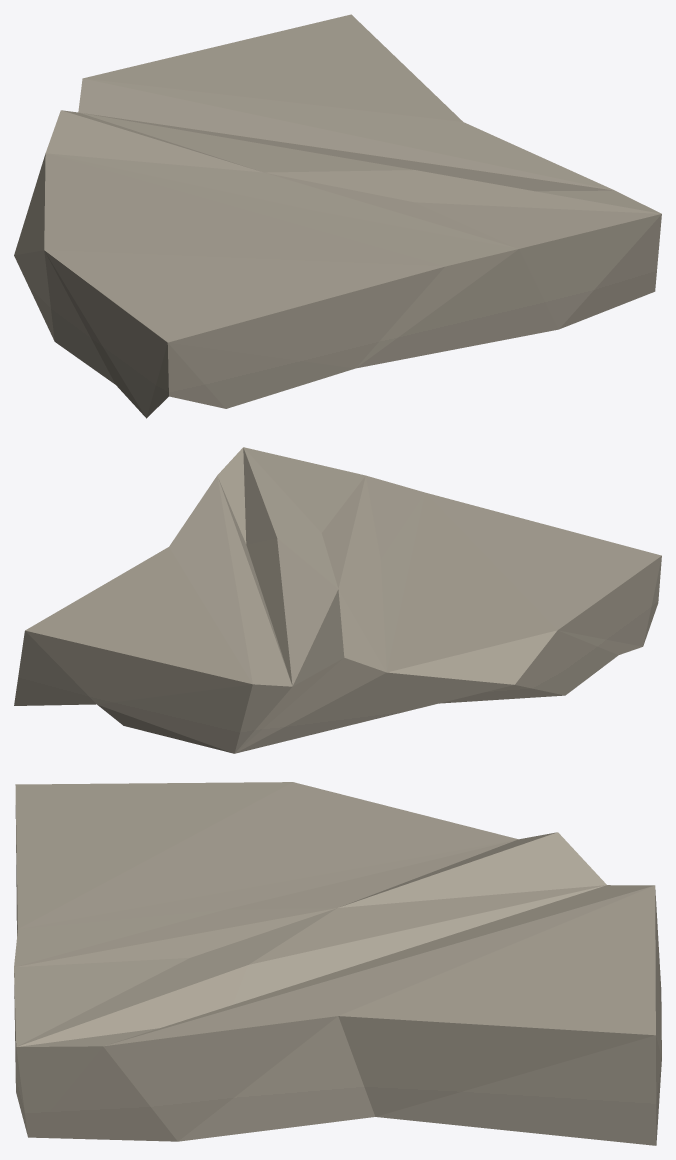
Rendered from YN_RockPlate2.fbx.
The picture shows the model from 3 angles, top to bottom: view 1: azimuth 30°, elevation 25°; view 2: azimuth 150°, elevation 25°; view 3: azimuth 270°, elevation 25°; orthographic projection. The views are drawn at different scales.
Visible parts, largest first — view 1: RockPlate2; view 2: RockPlate2; view 3: RockPlate2.
Boxes of the visible parts, x1,y1,x2,y2 form: RockPlate2: (14,14,661,418); RockPlate2: (14,447,661,753); RockPlate2: (14,782,661,1145).
Size of the model in its own units: 0.7582 by 0.1967 by 0.7643.
